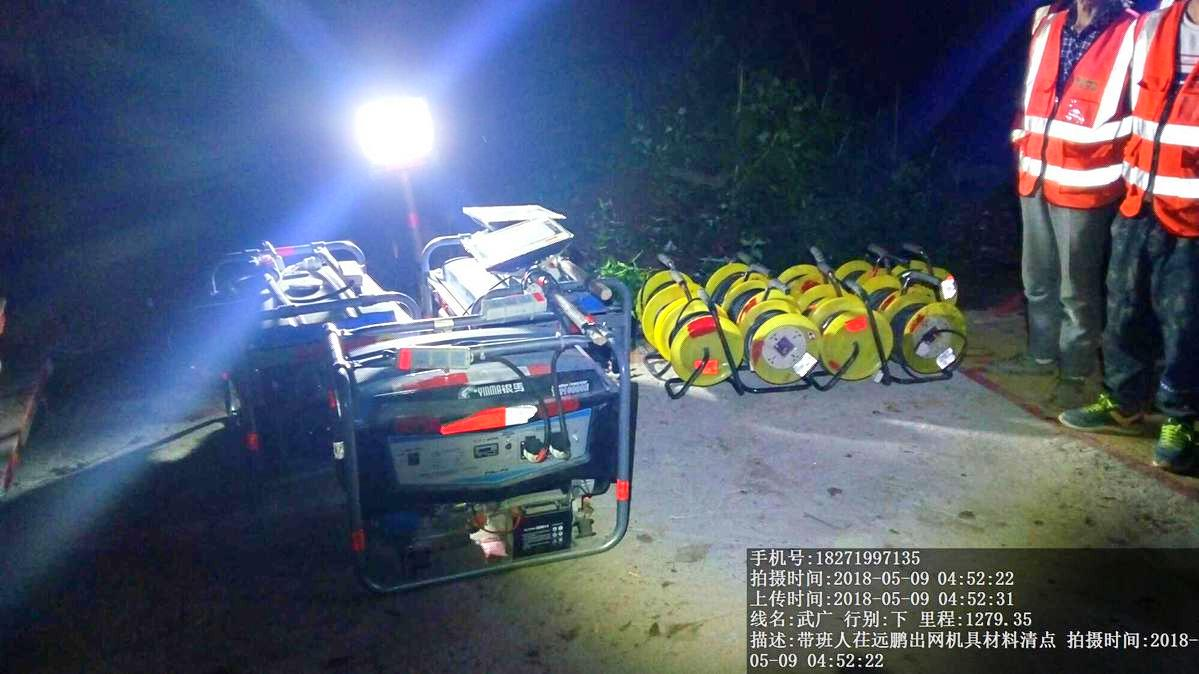DJ: (318, 312, 640, 577)
DX: (651, 289, 747, 384), (745, 290, 822, 388)
